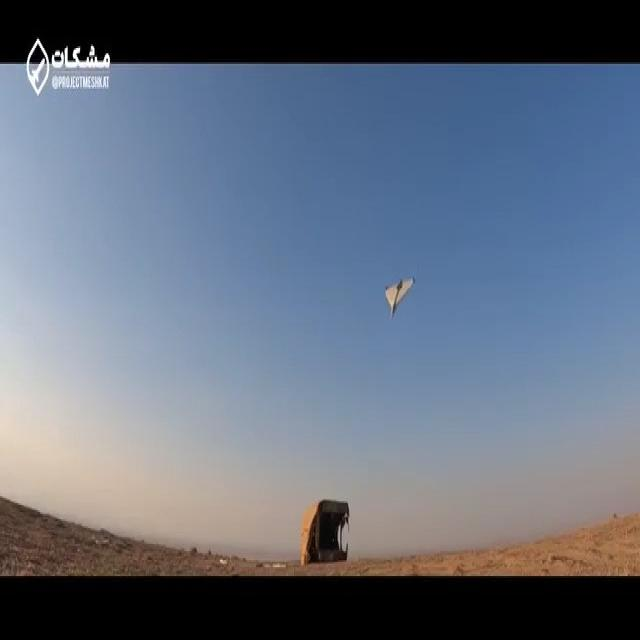drone: (378, 259, 431, 325)
